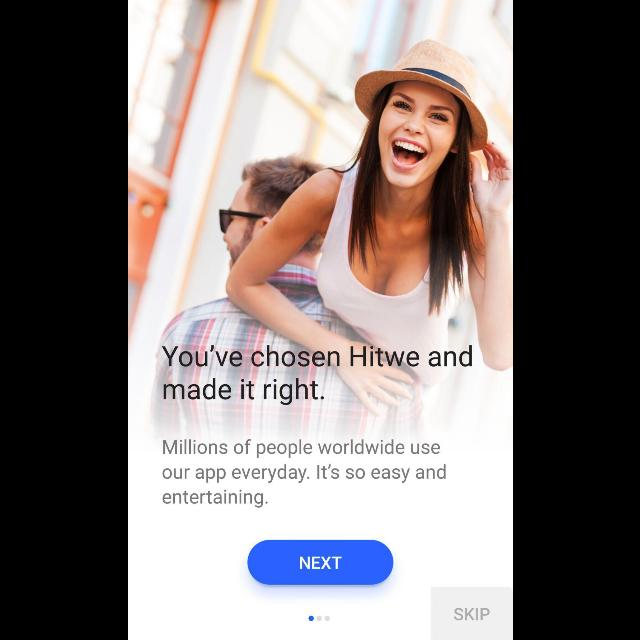backgroundimage: (128, 1, 512, 640)
pageindicator: (307, 616, 329, 622)
text: (161, 438, 445, 508), (160, 344, 472, 406)
textbutton: (246, 539, 394, 585), (430, 587, 512, 639)
